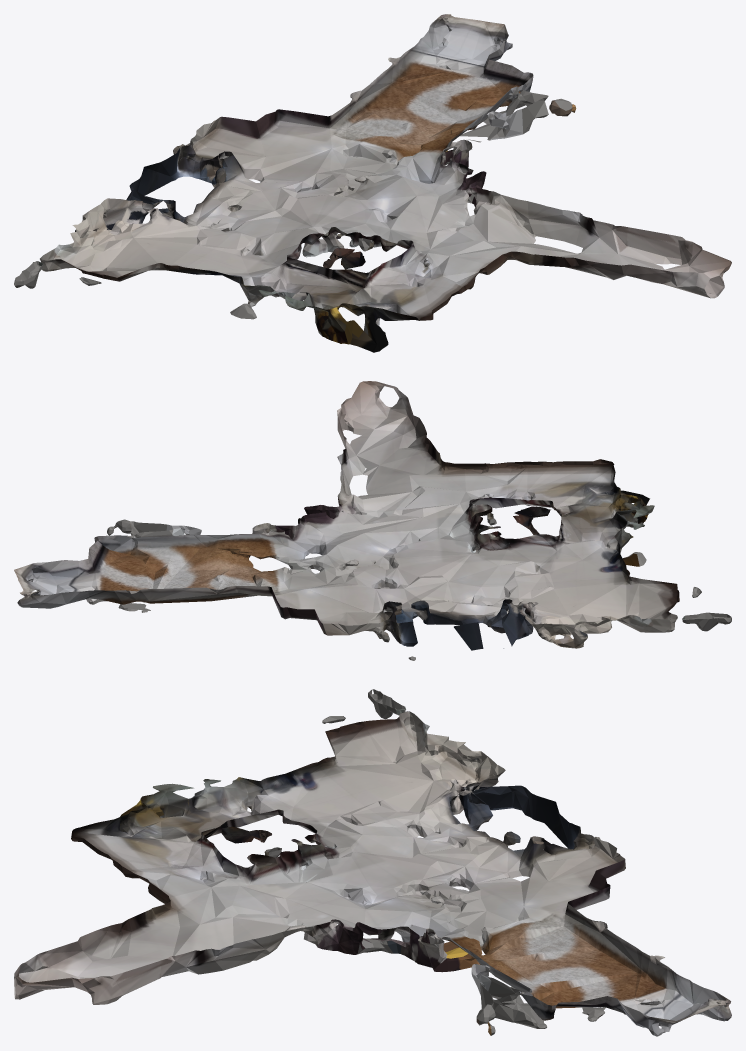
Rendered from New Floor.fbx.
3 views of the same model, one above another, from view 1: azimuth 30°, elevation 25°; view 2: azimuth 150°, elevation 25°; view 3: azimuth 270°, elevation 25° (orthographic). The views are drawn at different scales.
Visible parts, largest first — view 1: 20210820_213758.section; view 2: 20210820_213758.section; view 3: 20210820_213758.section.
Boxes of the visible parts, bbox=[...] form: 20210820_213758.section: bbox=[14, 14, 731, 352]; 20210820_213758.section: bbox=[14, 381, 731, 660]; 20210820_213758.section: bbox=[14, 689, 731, 1036].
Bounding box in the file's own units: 6.73 × 0.2718 × 6.15.
Materials: 4 (4 with a texture image).
